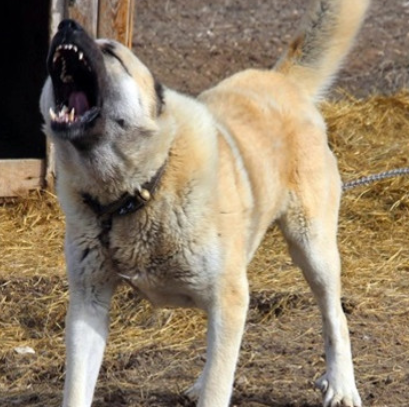dog: (34, 0, 374, 407)
